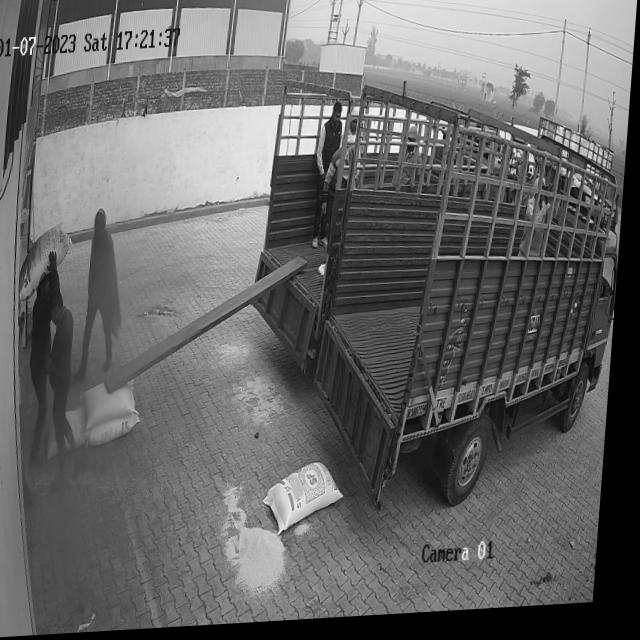sack: (269, 465, 353, 541), (23, 224, 76, 303), (85, 379, 142, 432), (94, 413, 147, 446)
